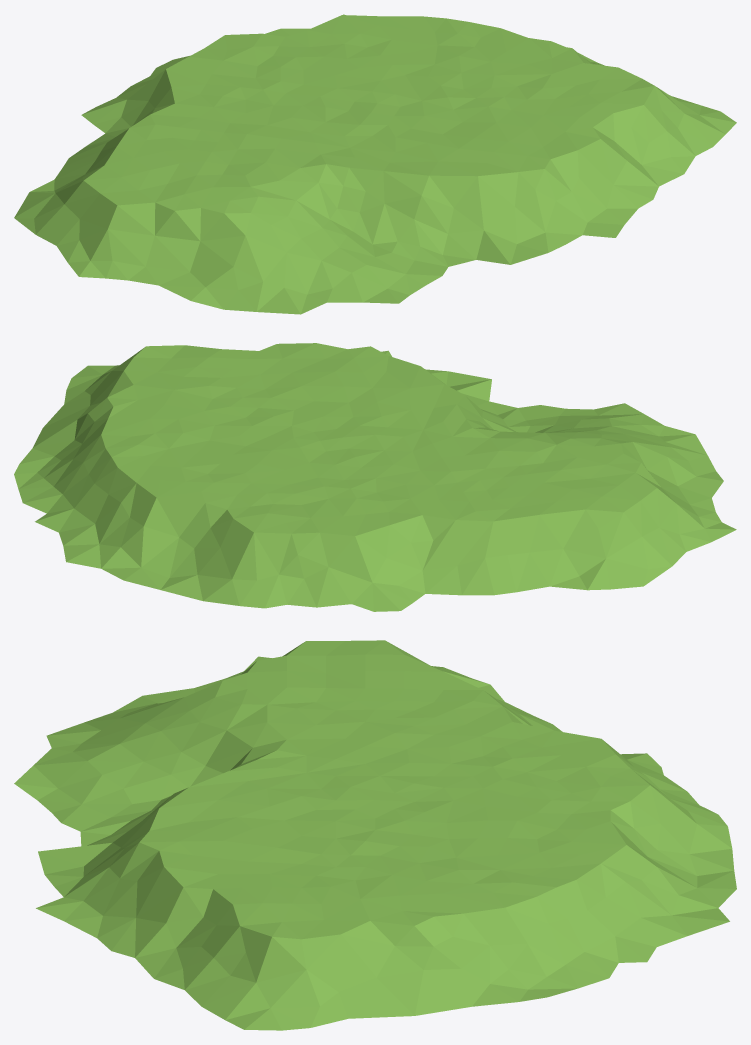
The model's file is MT_Mountain_L_c_04_LOD.fbx.
3 views of the same model, one above another, from view 1: azimuth 30°, elevation 25°; view 2: azimuth 150°, elevation 25°; view 3: azimuth 270°, elevation 25° (orthographic). The views are drawn at different scales.
Visible parts, largest first — view 1: MT_Mountain_L_c_04_LOD0; view 2: MT_Mountain_L_c_04_LOD0; view 3: MT_Mountain_L_c_04_LOD0.
Part boxes in pixels (x1=…): MT_Mountain_L_c_04_LOD0: x1=14, y1=14, x2=736, y2=314; MT_Mountain_L_c_04_LOD0: x1=14, y1=343, x2=736, y2=611; MT_Mountain_L_c_04_LOD0: x1=14, y1=640, x2=736, y2=1030.
Size of what is drawn, in the model's own units: 7396 by 570 by 6060.
